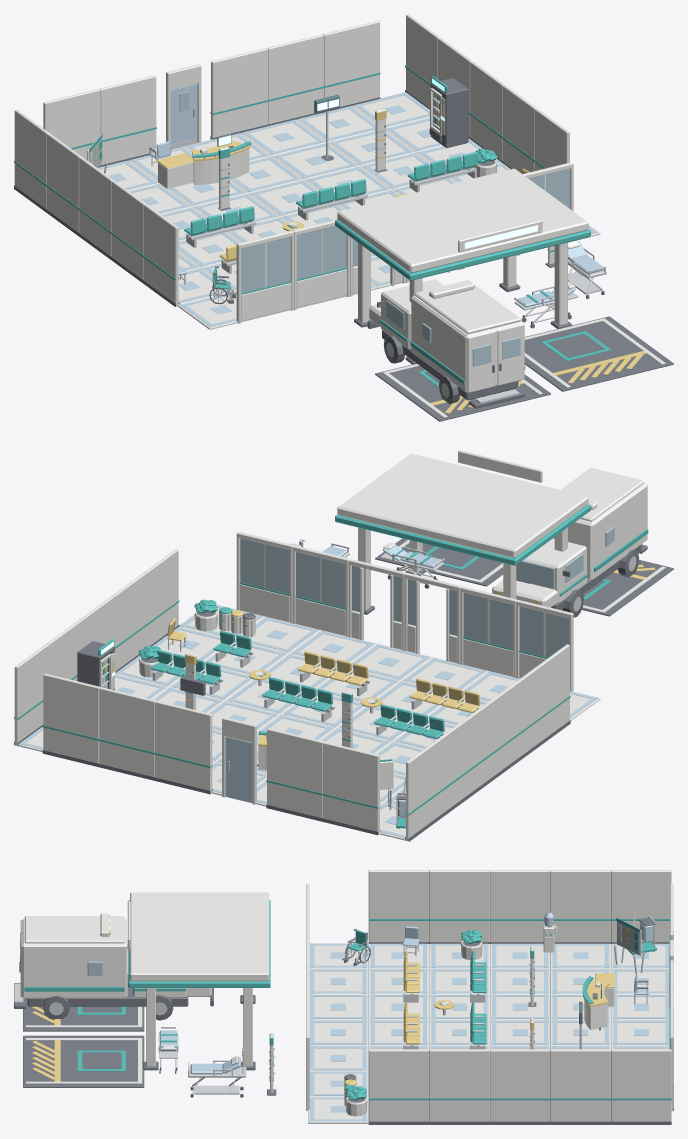
File: reception-waiting-hall.glb
3 views of the same model, one above another, from view 1: azimuth 30°, elevation 25°; view 2: azimuth 150°, elevation 25°; view 3: azimuth 270°, elevation 25° (orthographic). The views are drawn at different scales.
Visible parts, largest first — view 1: 088-entrance-canopy/0, 091-ambulance/1, 090-bay-markings-tile/0, 045-partition-wall/0, 043-partition-wall/0, 046-partition-wall/0, 047-partition-wall/0, 042-partition-wall/0, 056-partition-wall/0, 089-bay-markings-tile/0, 058-glazed-partition/0, 048-partition-wall/0 (+49 smaller); view 2: 088-entrance-canopy/0, 091-ambulance/1, 045-partition-wall/0, 042-partition-wall/0, 047-partition-wall/0, 046-partition-wall/0, 043-partition-wall/0, 048-partition-wall/0, 052-partition-wall/0, 050-partition-wall/0, 056-partition-wall/0, 054-partition-wall/0 (+52 smaller); view 3: 088-entrance-canopy/0, 091-ambulance/1, 090-bay-markings-tile/0, 057-partition-wall/0, 049-partition-wall/0, 055-partition-wall/0, 051-partition-wall/0, 053-partition-wall/0, 050-partition-wall/0, 056-partition-wall/0, 052-partition-wall/0, 054-partition-wall/0 (+72 smaller).
Part boxes in pixels (box(x1,y1,x2,y2)): 088-entrance-canopy/0: box(337, 168, 588, 324); 091-ambulance/1: box(369, 279, 524, 393); 090-bay-markings-tile/0: box(524, 316, 673, 391); 045-partition-wall/0: box(211, 48, 268, 139); 043-partition-wall/0: box(99, 75, 156, 164); 046-partition-wall/0: box(267, 34, 323, 124); 047-partition-wall/0: box(323, 20, 379, 106); 042-partition-wall/0: box(43, 89, 100, 165); 056-partition-wall/0: box(143, 204, 178, 306); 089-bay-markings-tile/0: box(375, 363, 550, 421); 058-glazed-partition/0: box(236, 230, 294, 323); 048-partition-wall/0: box(14, 109, 49, 208); 088-entrance-canopy/0: box(337, 450, 588, 609); 091-ambulance/1: box(492, 467, 647, 607); 045-partition-wall/0: box(155, 701, 212, 793); 042-partition-wall/0: box(322, 741, 379, 834); 047-partition-wall/0: box(43, 673, 100, 763); 046-partition-wall/0: box(99, 687, 155, 776); 043-partition-wall/0: box(267, 728, 323, 817); 048-partition-wall/0: box(406, 739, 440, 841); 052-partition-wall/0: box(470, 691, 505, 790); 050-partition-wall/0: box(438, 715, 472, 814); 056-partition-wall/0: box(535, 644, 569, 743); 054-partition-wall/0: box(503, 668, 537, 767); 088-entrance-canopy/0: box(127, 892, 269, 1066); 091-ambulance/1: box(22, 913, 212, 998); 090-bay-markings-tile/0: box(23, 1035, 144, 1087); 057-partition-wall/0: box(368, 1049, 429, 1121); 049-partition-wall/0: box(611, 1049, 671, 1121); 055-partition-wall/0: box(429, 1049, 489, 1121); 051-partition-wall/0: box(550, 1049, 610, 1121); 053-partition-wall/0: box(490, 1049, 550, 1121); 050-partition-wall/0: box(550, 870, 610, 942); 056-partition-wall/0: box(368, 870, 429, 942); 052-partition-wall/0: box(490, 870, 550, 942); 054-partition-wall/0: box(429, 870, 489, 942).
Bounding box in the file's own units: 14.15 × 4.17 × 21.77.
